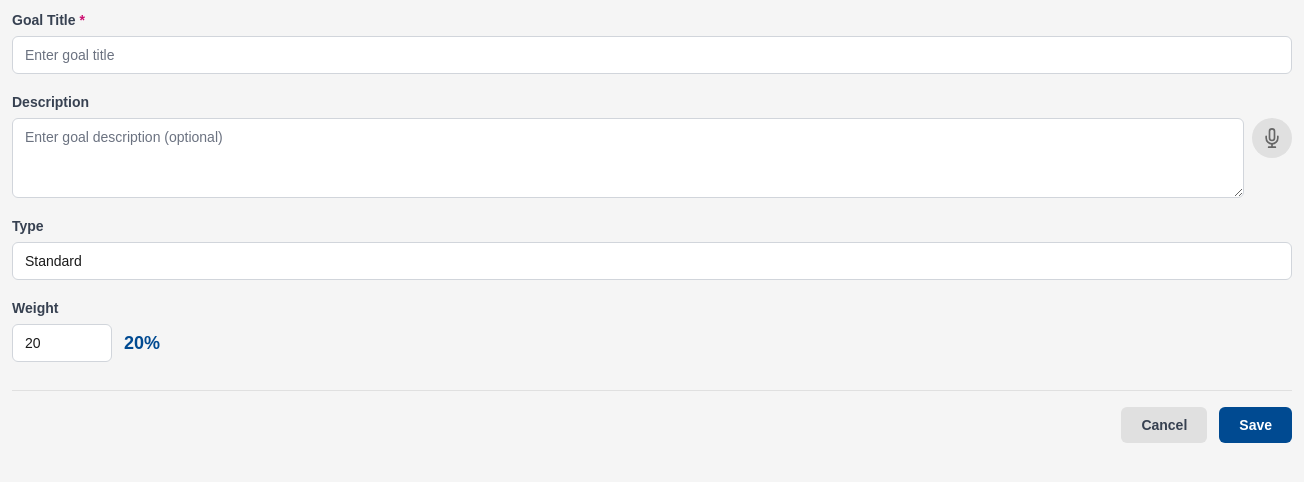
Test case: GoalForm › validation › should show error when weight is not multiple of 5
This screenshot has width=1304, height=482.
In the field named "title": (652, 55) [12, 36, 1292, 74], type "Test Goal"
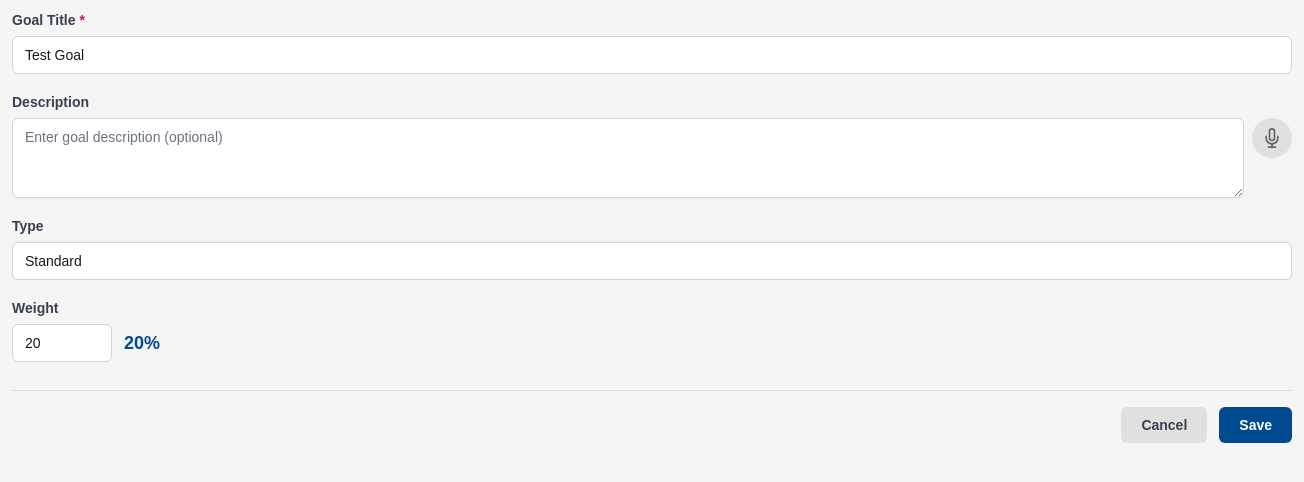
Replace the text in the number field named "weight" with "23": (62, 343) [12, 324, 112, 362]
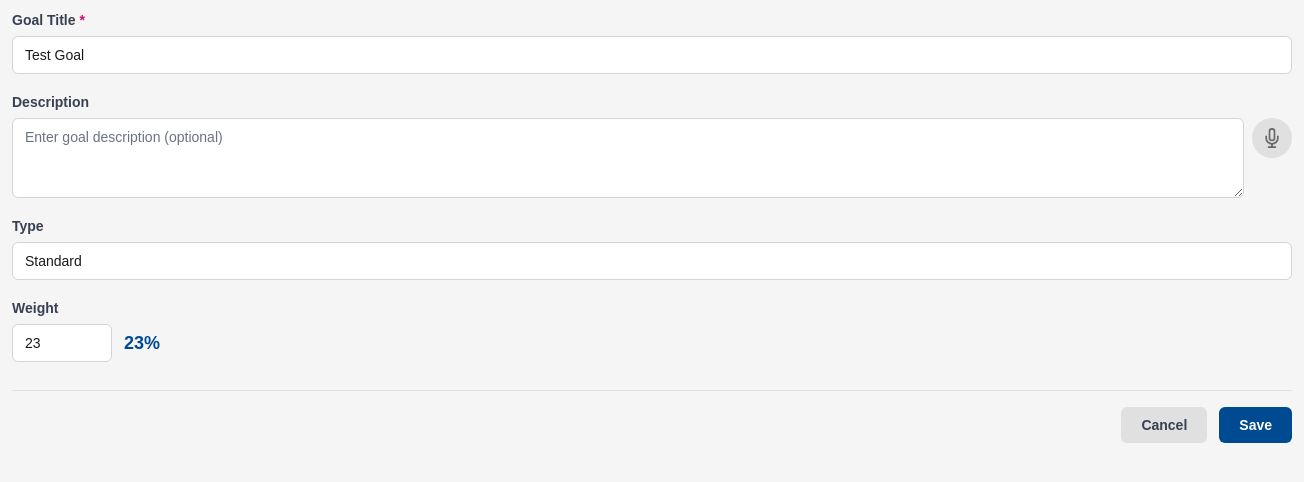
Submit the form
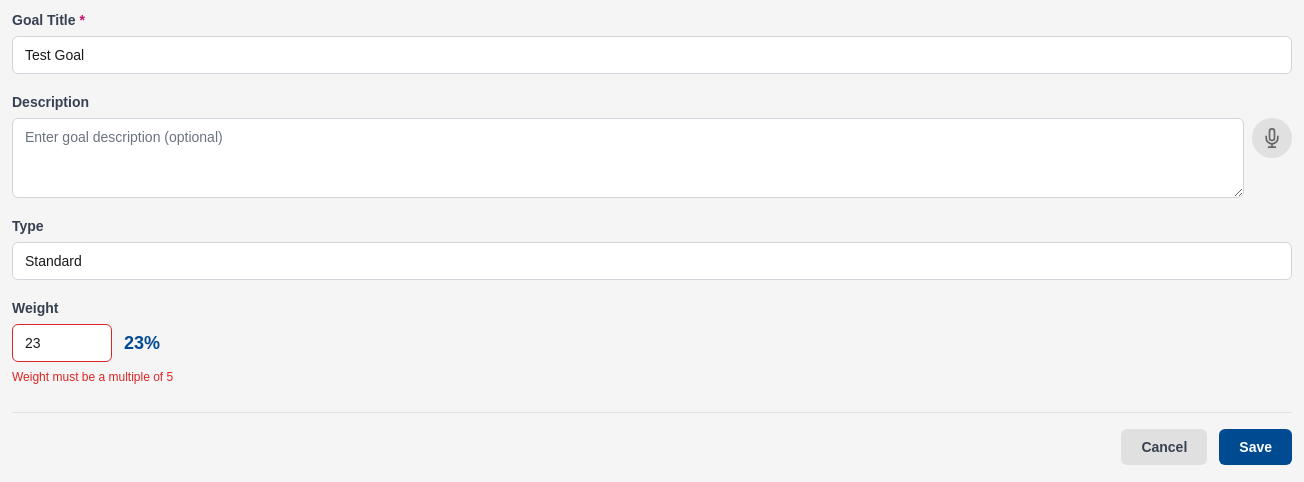
Now the text with class "error-message" shows "multiple of 5", box [12, 370, 173, 384]
